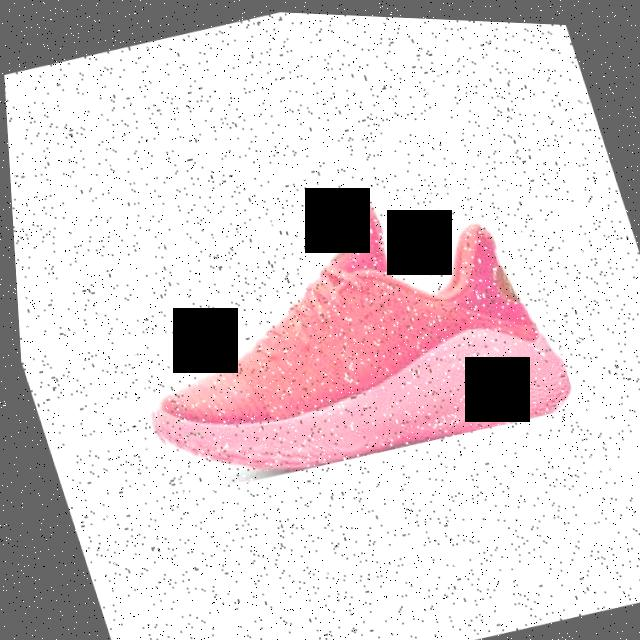shoe: (91, 147, 578, 511)
